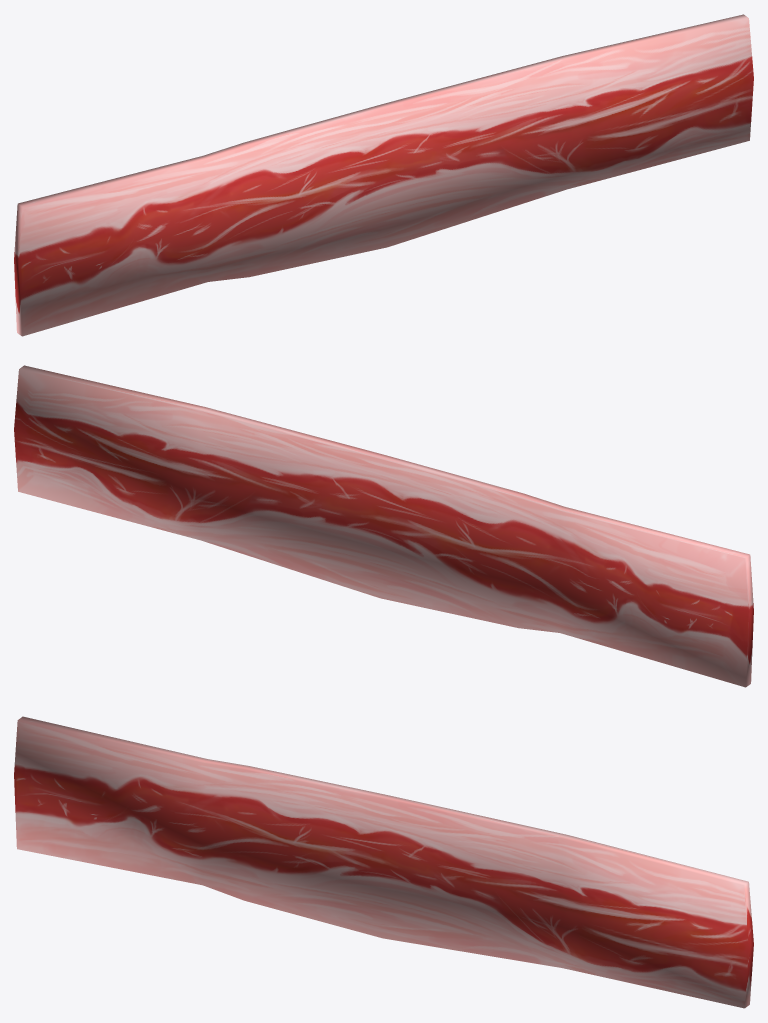
The model's file is woosamgyup_beef.fbx.
3 views of the same model, one above another, from view 1: azimuth 30°, elevation 25°; view 2: azimuth 150°, elevation 25°; view 3: azimuth 330°, elevation 25° (orthographic).
Parts seen in each view (by area): view 1: woosamgyup-beef; view 2: woosamgyup-beef; view 3: woosamgyup-beef.
Boxes of the visible parts, box(x1,y1,x2,y2) form: woosamgyup-beef: box(14, 14, 753, 336); woosamgyup-beef: box(14, 365, 753, 687); woosamgyup-beef: box(14, 716, 753, 1008).
Size of the model in its own units: 71.69 by 13.39 by 0.8805.
